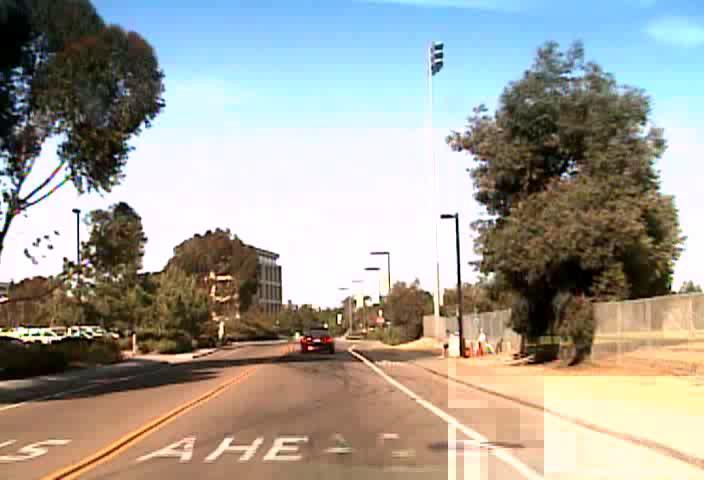stop: (375, 316, 384, 324)
